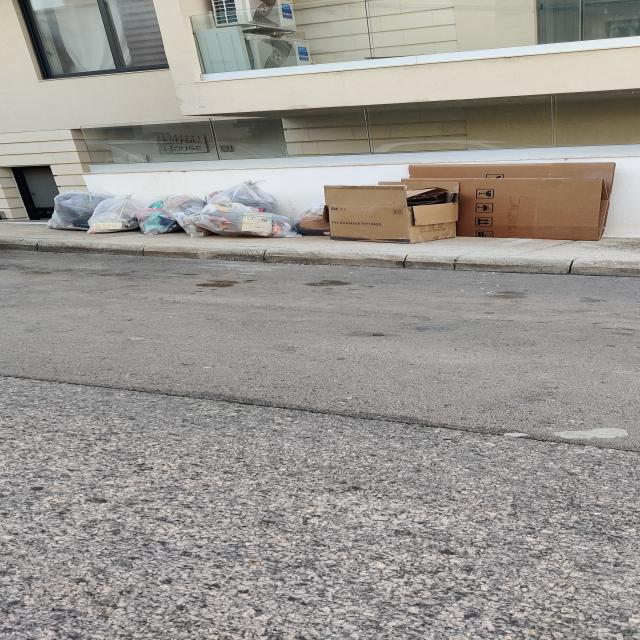Others Waste: (324, 162, 615, 244)
Recyclable Material -Grey Bags-: (47, 181, 330, 238)
